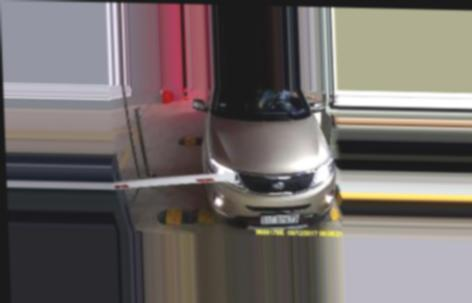License_Plate: (258, 210, 300, 227)
